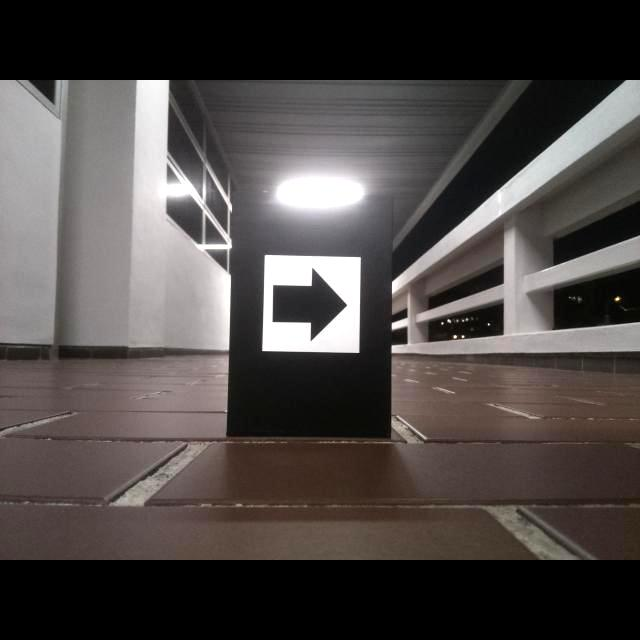RIGHT: (273, 268, 348, 342)
